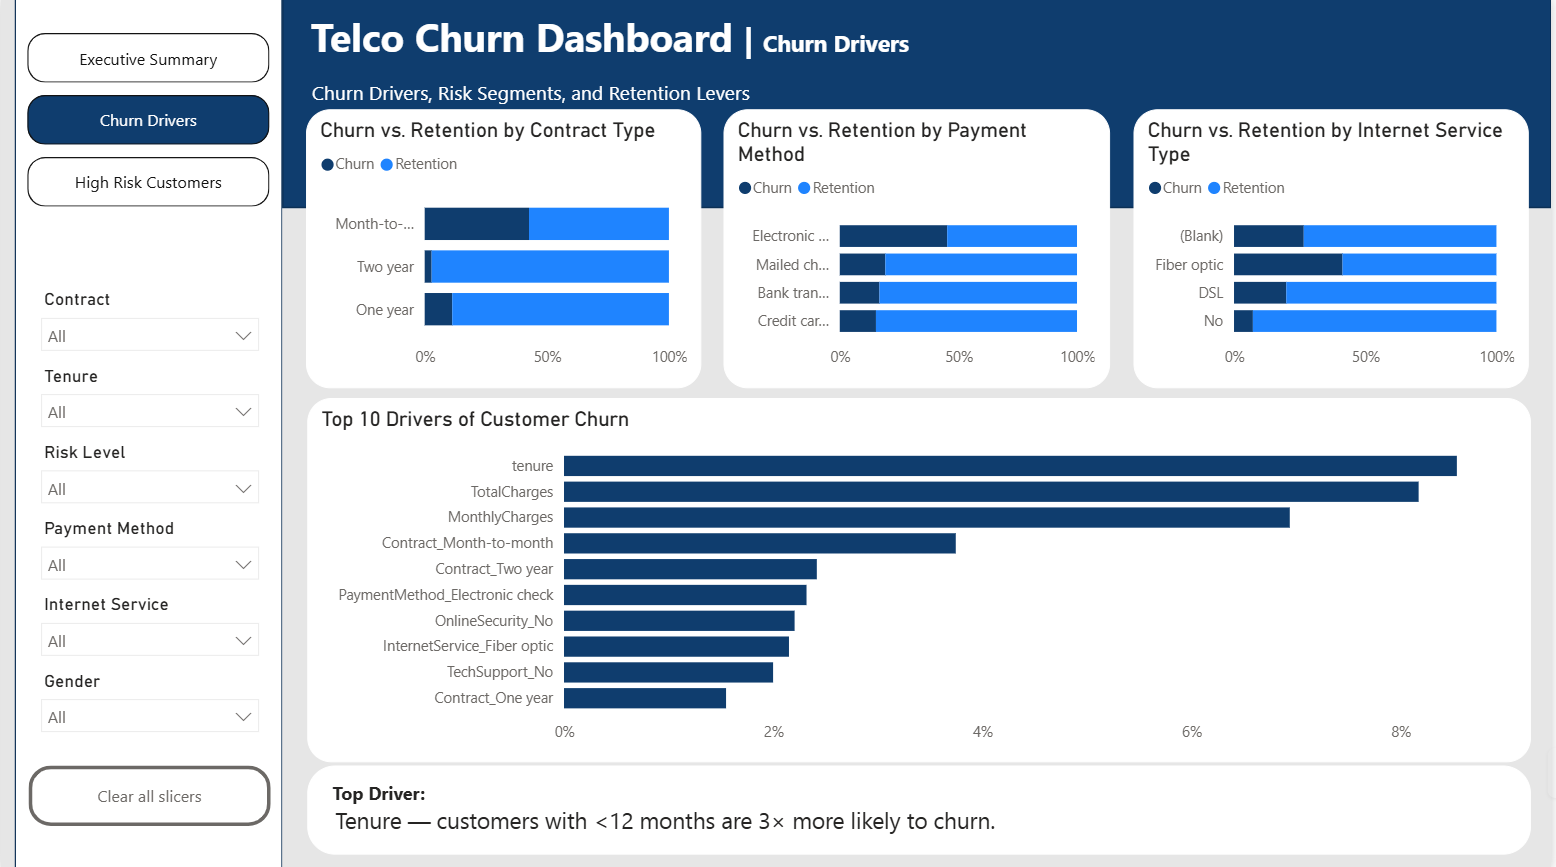

This screenshot's page, from the dashboard's own definition file:
{"tool":"powerbi","page":{"name":"Churn Drivers","canvas":[1280,720],"ordinal":1},"visuals":[{"type":"slicer","fields":{"Values":["telco_churn churn_model_data.Contract"]},"box":[22.2,235.6,200,63.3],"z":0,"group":"g1"},{"type":"shape","box":[11.1,0,221.1,720],"z":0},{"type":"shape","box":[232.2,0,1047.8,173.3],"z":1000},{"type":"slicer","fields":{"Values":["telco_churn churn_model_data.tenure"]},"box":[22.2,298.5,200,63.3],"z":1000,"group":"g1"},{"type":"hundredPercentStackedBarChart","title":"Churn vs. Retention by Contract Type","fields":{"Category":["telco_churn churn_model_data.Contract"],"Y":["CountNonNull(telco_churn churn_model_data.customerID)"],"Series":["telco_churn churn_model_data.churn_flag"]},"box":[252.2,92.2,326.7,230],"z":2000},{"type":"slicer","fields":{"Values":["telco_churn churn_model_data.InternetService"]},"box":[22.2,487.2,200,63.3],"z":2000,"group":"g1"},{"type":"hundredPercentStackedBarChart","title":"Churn vs. Retention by Internet Service Type","fields":{"Y":["CountNonNull(telco_churn churn_model_data.customerID)"],"Category":["Churn_prediction.InternetService"],"Series":["telco_churn churn_model_data.churn_flag"]},"box":[935.6,92.2,326.7,230],"z":3000},{"type":"slicer","fields":{"Values":["telco_churn churn_model_data.PaymentMethod"]},"box":[22.2,424.3,200,63.3],"z":3000,"group":"g1"},{"type":"hundredPercentStackedBarChart","title":"Churn vs. Retention by Payment Method","fields":{"Y":["CountNonNull(telco_churn churn_model_data.customerID)"],"Category":["telco_churn churn_model_data.PaymentMethod"],"Series":["telco_churn churn_model_data.churn_flag"]},"box":[596.7,92.2,318.9,230],"z":4000},{"type":"slicer","fields":{"Values":["telco_churn churn_predictions.risk_bucket"]},"box":[22.2,361.4,200,63.3],"z":4000,"group":"g1"},{"type":"slicer","fields":{"Values":["telco_churn churn_model_data.gender"]},"box":[22.2,550,200,63.3],"z":5000,"group":"g1"},{"type":"barChart","title":"Top 10 Drivers of Customer Churn","fields":{"Category":["Churn_importance.feature"],"Y":["Sum(Churn_importance.importance)"]},"box":[253.3,330,1010,301.1],"z":5000},{"type":"pageNavigator","box":[21.8,29.1,200.6,144.5],"z":6000},{"type":"actionButton","box":[22.2,633.3,200,50],"z":7000},{"type":"textbox","box":[251.1,5.6,597.8,56.7],"z":8000},{"type":"group","id":"g1","title":"Group 2","box":[22.2,235.6,200,377.8],"z":9000},{"type":"textbox","box":[252.2,62.2,655.6,41.1],"z":10000},{"type":"textbox","title":"Top Driver:","box":[253.3,633.3,1010,73.3],"z":11000}]}

Visuals, with their boxes in screenshot pixels (x1, y1, x2, y2), scaled from the page's 1280x720 canvas onto the 1556x867 screenshot:
slicer - telco_churn churn_model_data.Contract: bbox=[27, 284, 270, 360]
shape: bbox=[13, 0, 282, 866]
shape: bbox=[282, 0, 1555, 209]
slicer - telco_churn churn_model_data.tenure: bbox=[27, 359, 270, 436]
"Churn vs. Retention by Contract Type" hundredPercentStackedBarChart: bbox=[307, 111, 704, 388]
slicer - telco_churn churn_model_data.InternetService: bbox=[27, 587, 270, 663]
"Churn vs. Retention by Internet Service Type" hundredPercentStackedBarChart: bbox=[1137, 111, 1534, 388]
slicer - telco_churn churn_model_data.PaymentMethod: bbox=[27, 511, 270, 587]
"Churn vs. Retention by Payment Method" hundredPercentStackedBarChart: bbox=[725, 111, 1113, 388]
slicer - telco_churn churn_predictions.risk_bucket: bbox=[27, 435, 270, 511]
slicer - telco_churn churn_model_data.gender: bbox=[27, 662, 270, 739]
"Top 10 Drivers of Customer Churn" barChart: bbox=[308, 397, 1536, 760]
pageNavigator: bbox=[27, 35, 270, 209]
actionButton: bbox=[27, 763, 270, 823]
textbox: bbox=[305, 7, 1032, 75]
"Group 2" group: bbox=[27, 284, 270, 739]
textbox: bbox=[307, 75, 1104, 124]
"Top Driver:" textbox: bbox=[308, 763, 1536, 851]
